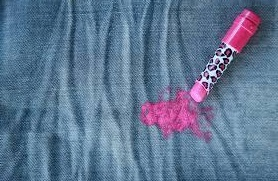lipstick: (141, 90, 217, 134), (182, 119, 214, 143)
